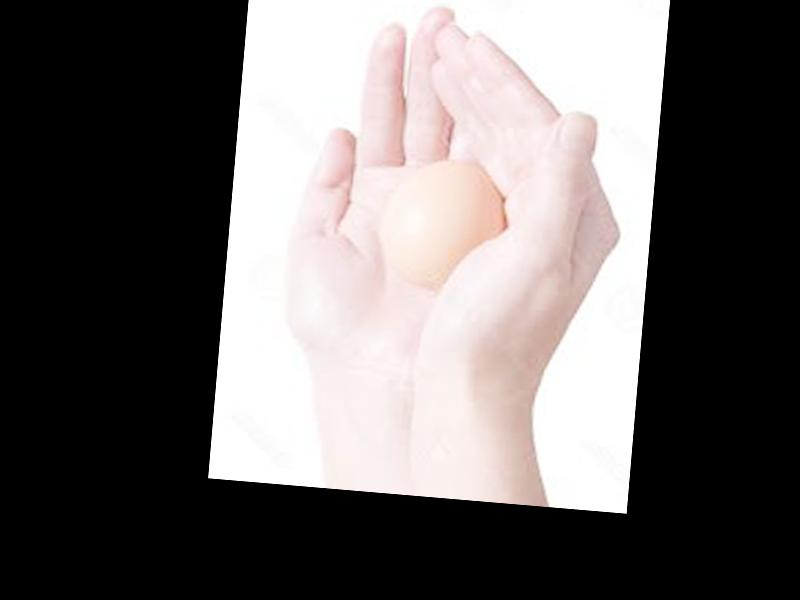Eggs: (382, 156, 506, 287)
